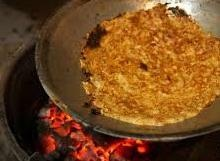kerak_telor: (80, 6, 220, 122)
